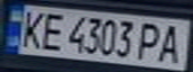0: (100, 16, 121, 57)
3: (115, 17, 139, 60), (81, 15, 103, 56)
4: (63, 14, 87, 54)
A: (154, 21, 190, 64)
E: (33, 10, 69, 52)
K: (15, 7, 48, 51)
P: (136, 19, 166, 62)
